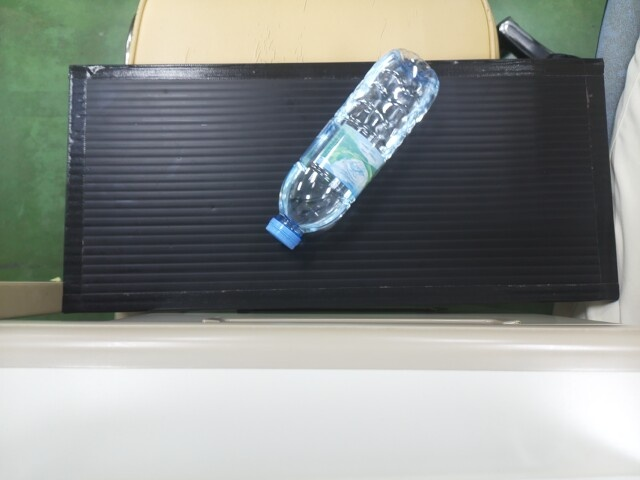plastic_bottle: (272, 45, 441, 244)
